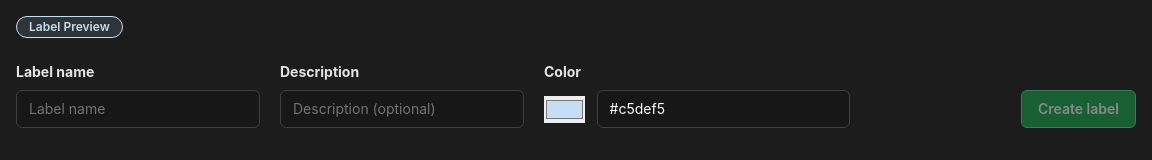
Test: create mode › color input and picker › color input value change when color picker value change
This screenshot has width=1152, height=160.
Type "#ffffff" into the colour field with test id "color-picker" at (564, 109), box top-left (544, 96), bottom-right (585, 122)
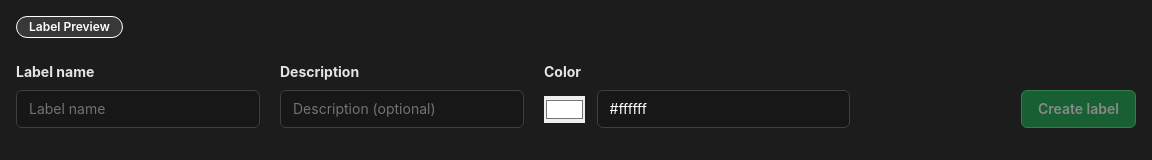
Result: the field with test id "text-input" holds "#ffffff" at top-left (597, 90), bottom-right (850, 128)
